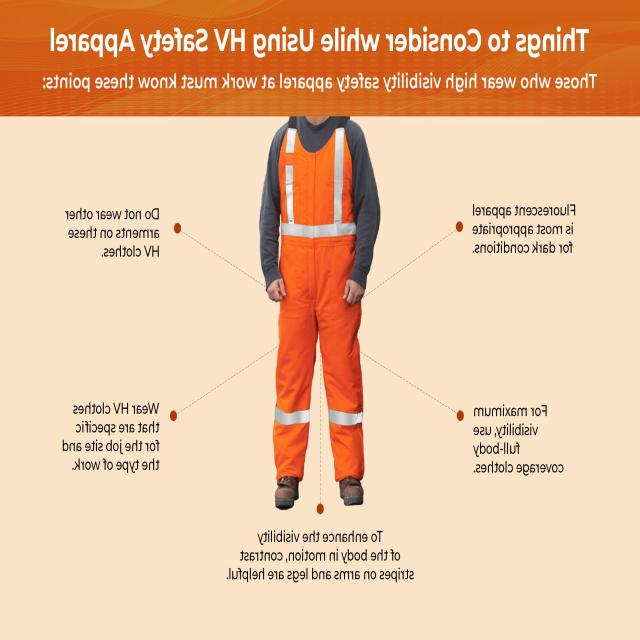Reflective-Jacket: (267, 120, 367, 304)
